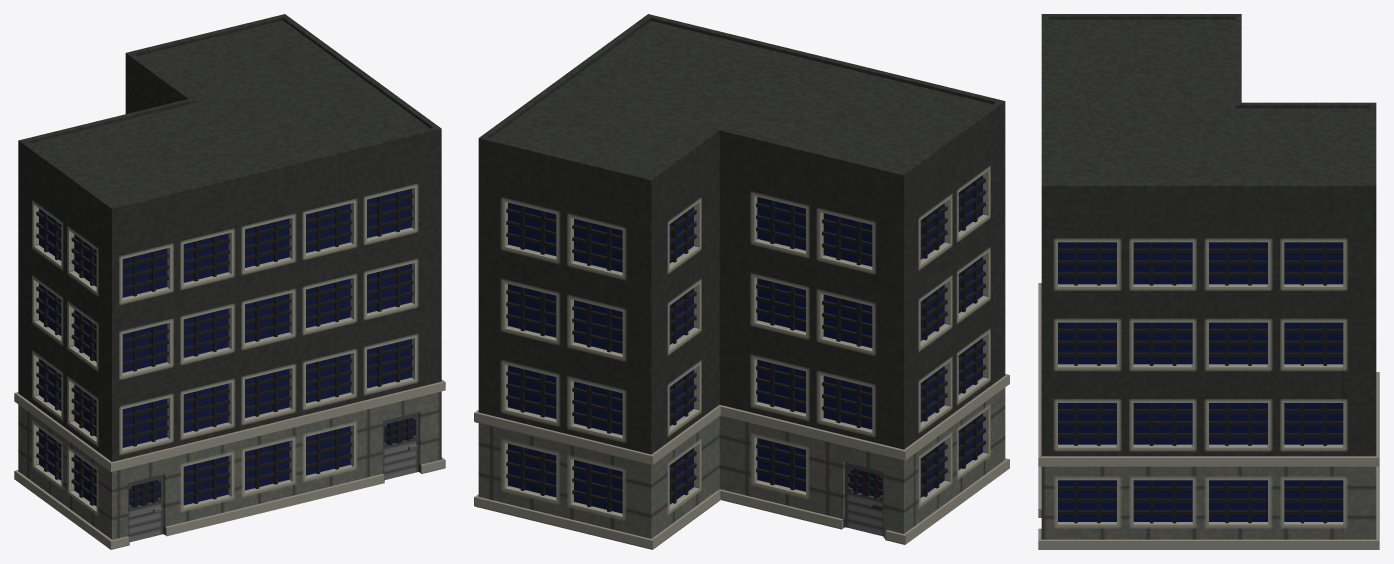
File: big_budynek_0009.dae
3 renders of one model, left to right at view 1: azimuth 30°, elevation 25°; view 2: azimuth 150°, elevation 25°; view 3: azimuth 270°, elevation 25°, orthographic. The views are drawn at different scales.
Parts seen in each view (by area): view 1: Content; view 2: Content; view 3: Content.
Boxes of the visible parts, <box> form: Content: <box>14,14,445,549</box>; Content: <box>474,14,1009,549</box>; Content: <box>1038,14,1379,549</box>.
Bounding box in the file's own units: 126 × 122 × 104.
Materials: 1 (1 with a texture image).
